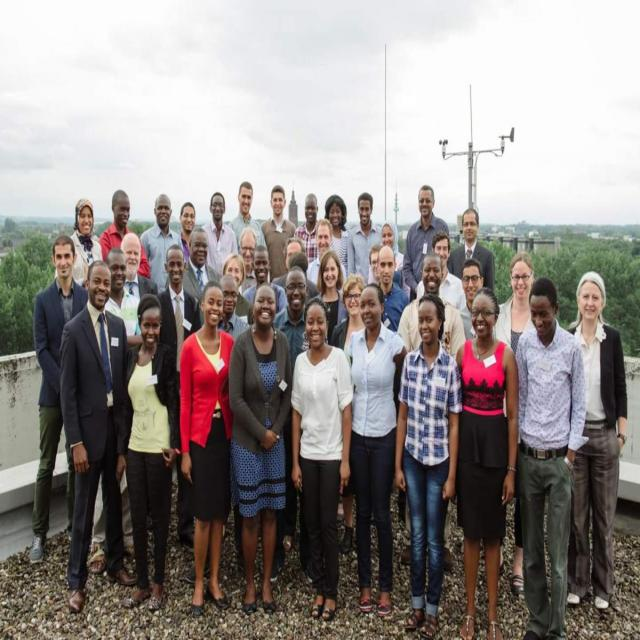body: (509, 276, 590, 639), (59, 256, 139, 618), (453, 288, 521, 639), (393, 293, 460, 639), (25, 232, 92, 569), (566, 270, 630, 611), (290, 299, 357, 622), (174, 279, 237, 622), (113, 291, 178, 618), (347, 283, 408, 614), (89, 245, 142, 582), (236, 278, 286, 614), (491, 248, 537, 597), (398, 252, 468, 362), (153, 244, 201, 378), (402, 184, 449, 304), (139, 191, 185, 297), (181, 227, 223, 337), (271, 264, 312, 372), (415, 230, 468, 313), (54, 196, 100, 289), (99, 189, 146, 277), (448, 207, 496, 291), (259, 184, 298, 284), (330, 272, 368, 367), (242, 244, 288, 317), (200, 191, 239, 276), (307, 216, 347, 298), (459, 257, 498, 341), (315, 249, 349, 345), (348, 192, 382, 286), (271, 236, 318, 304), (227, 181, 268, 254), (376, 244, 409, 332), (322, 194, 353, 282), (120, 232, 155, 308), (216, 272, 250, 340), (222, 252, 252, 327), (293, 192, 320, 266), (177, 200, 198, 267), (379, 218, 405, 272), (238, 225, 257, 294), (358, 240, 381, 284), (284, 250, 310, 278)
